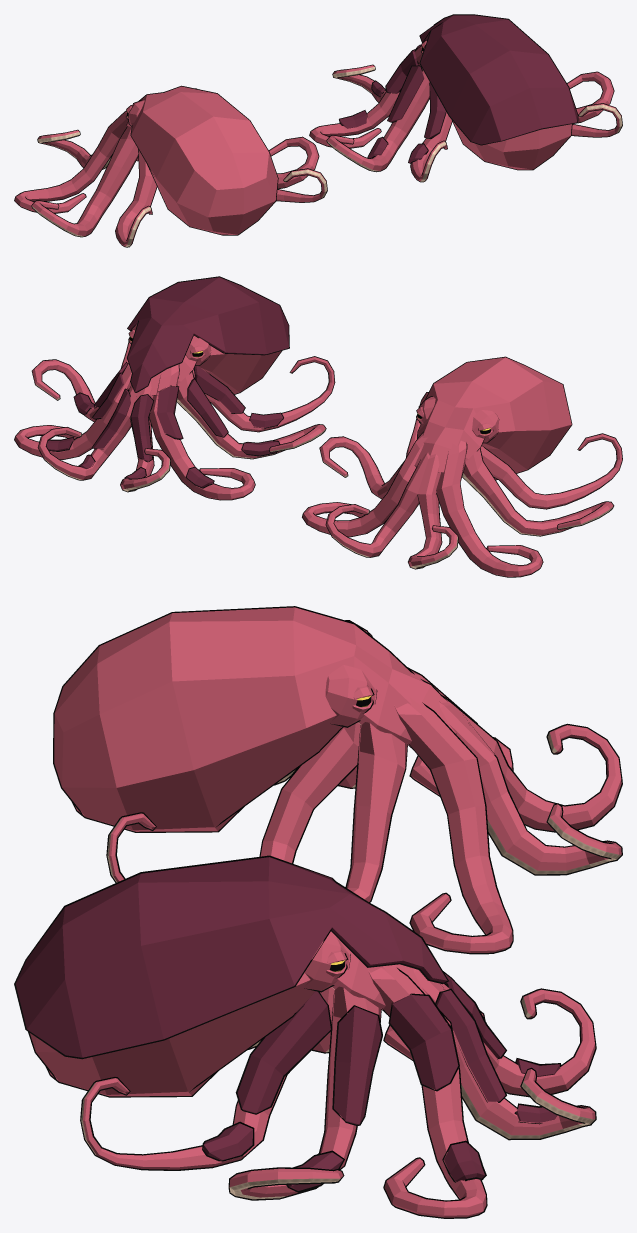
File: Low_Poly_Octopus_In_Armor.glb
3 renders of one model, top to bottom at view 1: azimuth 30°, elevation 25°; view 2: azimuth 150°, elevation 25°; view 3: azimuth 270°, elevation 25°, orthographic. The views are drawn at different scales.
Parts seen in each view (by area): view 1: Textured octopus No armor_Octopus material_0, Textured octopus armor_Octopus material_0, Textured octopus_Octopus material_0; view 2: Textured octopus No armor_Octopus material_0, Textured octopus armor_Octopus material_0, Textured octopus_Octopus material_0; view 3: Textured octopus No armor_Octopus material_0, Textured octopus armor_Octopus material_0, Textured octopus_Octopus material_0.
Boxes of the visible parts, left/top/right/bottom form: Textured octopus No armor_Octopus material_0: left=14, top=85, right=327, bottom=247; Textured octopus armor_Octopus material_0: left=339, top=14, right=578, bottom=163; Textured octopus_Octopus material_0: left=309, top=40, right=622, bottom=182; Textured octopus No armor_Octopus material_0: left=302, top=356, right=622, bottom=577; Textured octopus armor_Octopus material_0: left=46, top=276, right=289, bottom=488; Textured octopus_Octopus material_0: left=14, top=324, right=335, bottom=500; Textured octopus No armor_Octopus material_0: left=53, top=606, right=622, bottom=954; Textured octopus armor_Octopus material_0: left=14, top=855, right=561, bottom=1192; Textured octopus_Octopus material_0: left=28, top=931, right=596, bottom=1218.
Size of the model in its own units: 0.0138 by 0.00308 by 0.00683.
1 material, 1 textured.
